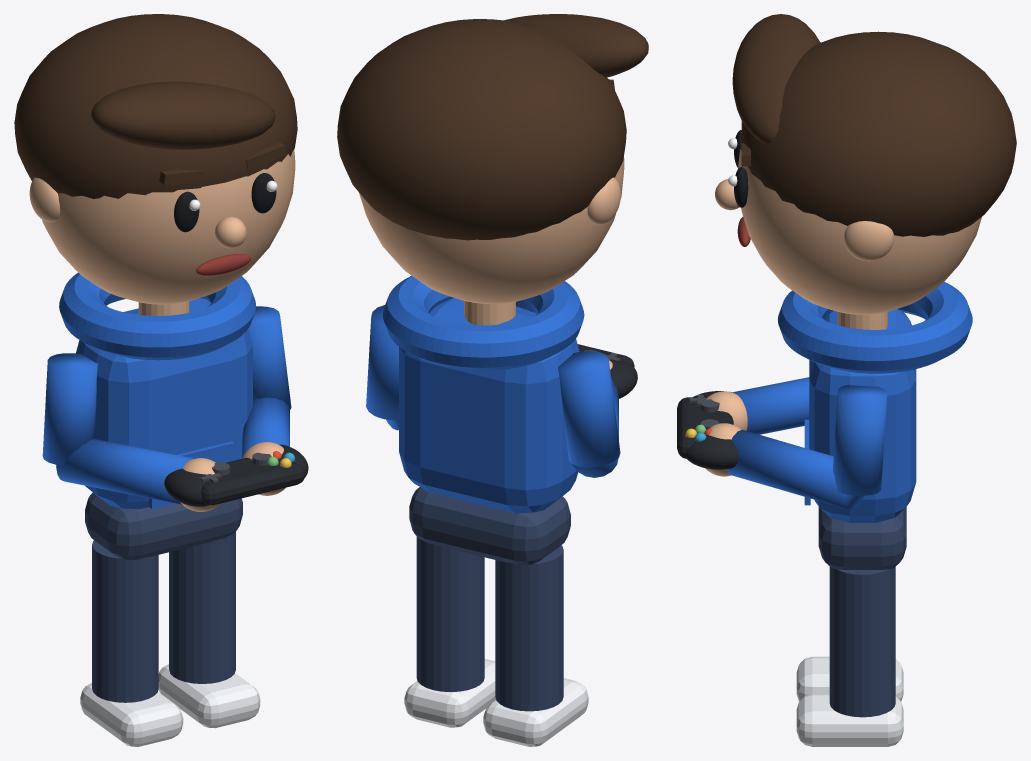
Rendered from joven_control.glb.
The picture shows the model from 3 angles, left to right: view 1: azimuth 30°, elevation 25°; view 2: azimuth 150°, elevation 25°; view 3: azimuth 270°, elevation 25°; orthographic projection. The views are drawn at different scales.
Visible parts, largest first — view 1: Sphere.011, Sphere.002, Cube.003, Torus, Sphere.012, Cylinder, Cylinder.001, Cube.002, Cylinder.003, Cylinder.002, Cube, Cube.001 (+15 smaller); view 2: Sphere.011, Cube.003, Sphere.002, Torus, Cylinder, Cylinder.001, Cube.002, Cylinder.002, Sphere.012, Cube, Cube.001, Cylinder.004 (+4 smaller); view 3: Sphere.011, Sphere.002, Torus, Cylinder.001, Cube.003, Sphere.012, Cylinder.004, Cylinder.005, Cube.002, Cube.001, Cylinder.003, Sphere.006 (+5 smaller).
Part boxes in pixels (left/top/right/bottom): Sphere.011: left=14, top=14, right=297, bottom=198; Sphere.002: left=42, top=150, right=295, bottom=304; Cube.003: left=76, top=297, right=252, bottom=509; Torus: left=59, top=272, right=255, bottom=360; Sphere.012: left=91, top=81, right=275, bottom=149; Cylinder: left=92, top=540, right=158, bottom=702; Cylinder.001: left=169, top=531, right=235, bottom=683; Cube.002: left=85, top=492, right=242, bottom=559; Cylinder.003: left=56, top=439, right=193, bottom=504; Cylinder.002: left=42, top=353, right=97, bottom=465; Cube: left=80, top=683, right=183, bottom=746; Cube.001: left=158, top=664, right=260, bottom=728; Sphere.011: left=337, top=19, right=626, bottom=240; Cube.003: left=399, top=298, right=579, bottom=513; Sphere.002: left=359, top=157, right=624, bottom=304; Torus: left=383, top=275, right=584, bottom=370; Cylinder: left=495, top=545, right=563, bottom=711; Cylinder.001: left=416, top=536, right=484, bottom=692; Cube.002: left=409, top=487, right=570, bottom=565; Cylinder.002: left=558, top=351, right=620, bottom=467; Sphere.012: left=504, top=14, right=648, bottom=77; Cube: left=483, top=678, right=588, bottom=746; Cube.001: left=404, top=659, right=495, bottom=727; Cylinder.004: left=366, top=305, right=398, bottom=420; Sphere.011: left=740, top=31, right=1016, bottom=236; Sphere.002: left=738, top=149, right=981, bottom=314; Torus: left=778, top=282, right=972, bottom=373; Cylinder.001: left=829, top=567, right=895, bottom=717; Cube.003: left=809, top=309, right=916, bottom=522; Sphere.012: left=732, top=14, right=820, bottom=143; Cylinder.004: left=833, top=385, right=887, bottom=495; Cylinder.005: left=726, top=429, right=863, bottom=509; Cube.002: left=818, top=507, right=906, bottom=569; Cube.001: left=796, top=694, right=903, bottom=746; Cylinder.003: left=732, top=377, right=809, bottom=434; Sphere.006: left=844, top=221, right=893, bottom=261.
Bounding box in the file's own units: 0.916 × 2.35 × 1.08.
